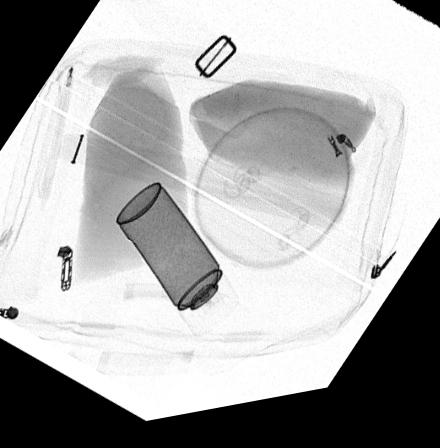Sprayer: (115, 189, 239, 344)
